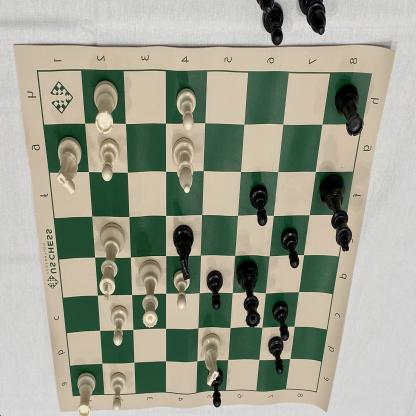black-king: (318, 173, 352, 258)
black-knight: (170, 223, 196, 280)
black-pawn: (247, 182, 272, 231), (279, 224, 300, 271), (204, 267, 225, 314), (270, 301, 292, 342), (266, 335, 285, 376), (207, 368, 226, 408)
black-queen: (234, 258, 264, 332)
black-rook: (331, 81, 365, 142)
white-bishop: (171, 136, 196, 194)
white-king: (95, 221, 127, 304)
white-knight: (53, 135, 85, 195), (200, 329, 223, 388)
white-pawn: (173, 85, 199, 133), (96, 136, 121, 183), (107, 370, 130, 414), (170, 268, 192, 312), (108, 304, 130, 348)
white-queen: (138, 258, 164, 332)
white-rook: (93, 78, 120, 135), (73, 370, 98, 416)
